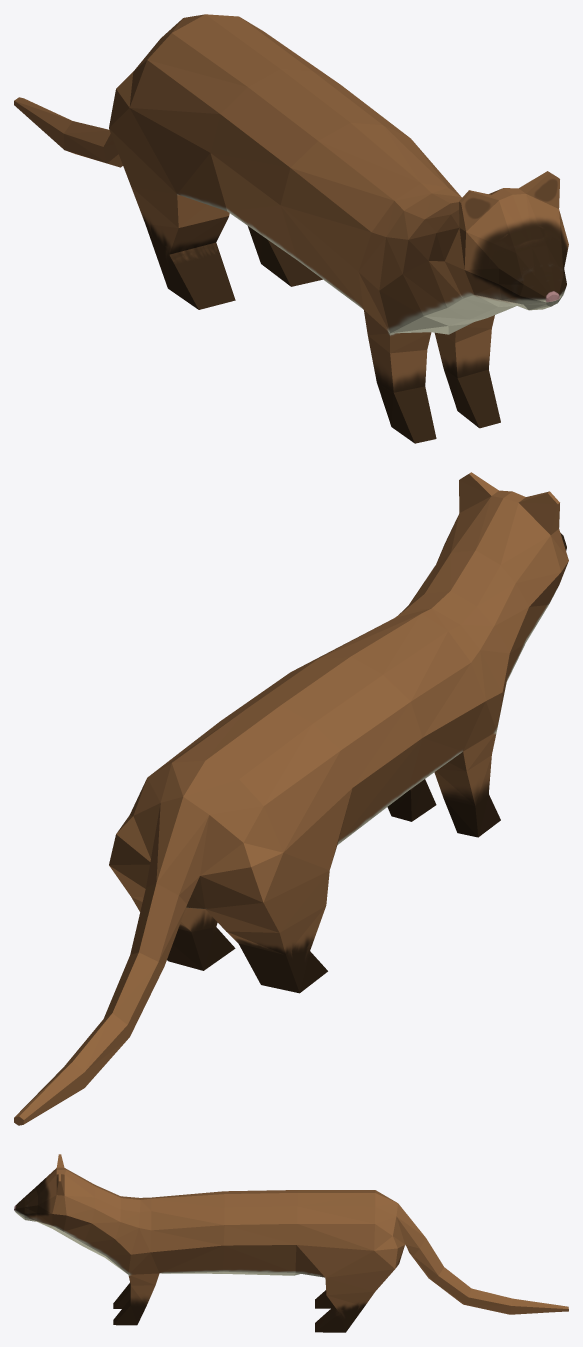
The model's file is mink.fbx.
The picture shows the model from 3 angles, top to bottom: view 1: azimuth 30°, elevation 25°; view 2: azimuth 150°, elevation 25°; view 3: azimuth 270°, elevation 25°; orthographic projection. The views are drawn at different scales.
Parts seen in each view (by area): view 1: mink; view 2: mink; view 3: mink.
Boxes of the visible parts, bbox=[...] form: mink: bbox=[14, 14, 568, 443]; mink: bbox=[14, 472, 568, 1125]; mink: bbox=[14, 1154, 568, 1332].
Bounding box in the file's own units: 7.42 × 13.44 × 44.52.
